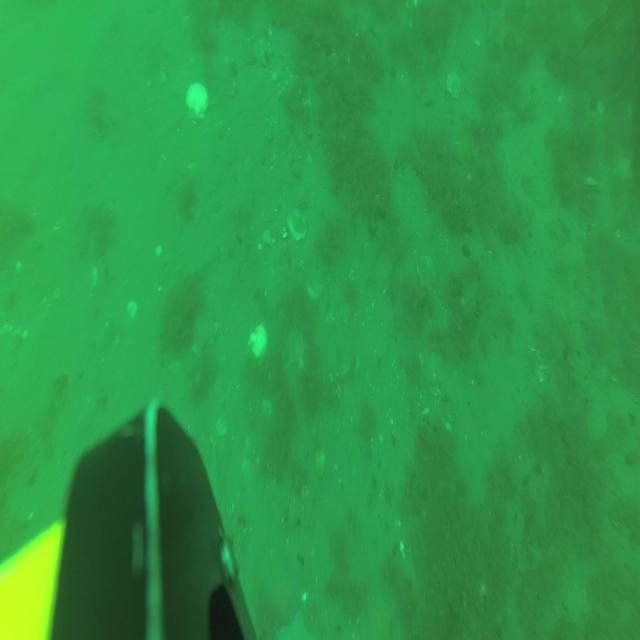scallop: (326, 324, 354, 381), (224, 376, 253, 424), (192, 304, 219, 350), (585, 399, 610, 445), (565, 585, 591, 629), (184, 82, 210, 124), (414, 252, 438, 293), (412, 73, 438, 108), (246, 323, 269, 362), (285, 206, 308, 244), (284, 328, 307, 364), (444, 70, 464, 100)
starfish: (260, 562, 298, 622), (484, 0, 514, 51), (276, 610, 318, 640)
